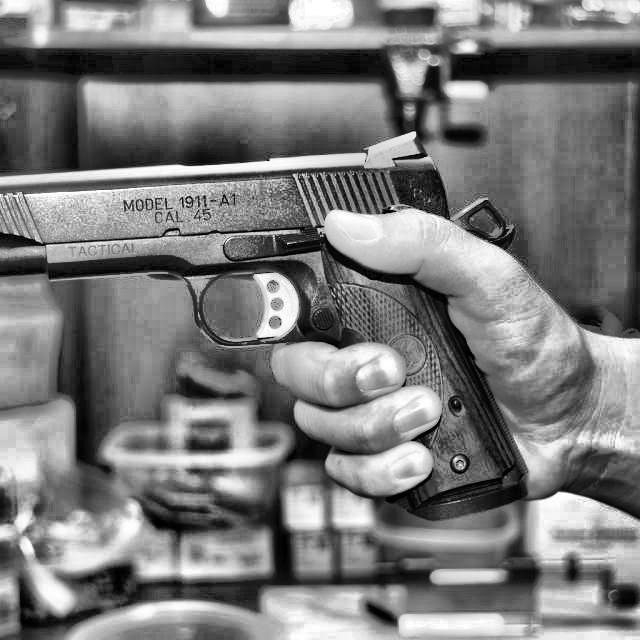pistol: (0, 136, 550, 526)
